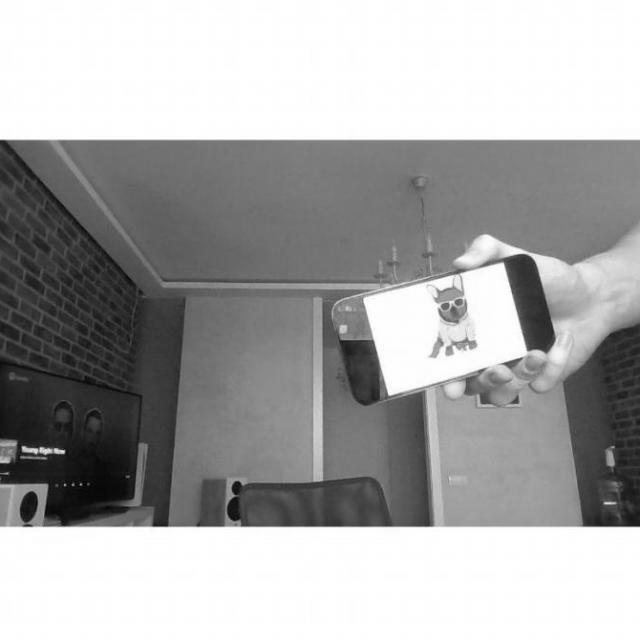fake: (330, 254, 558, 407)
